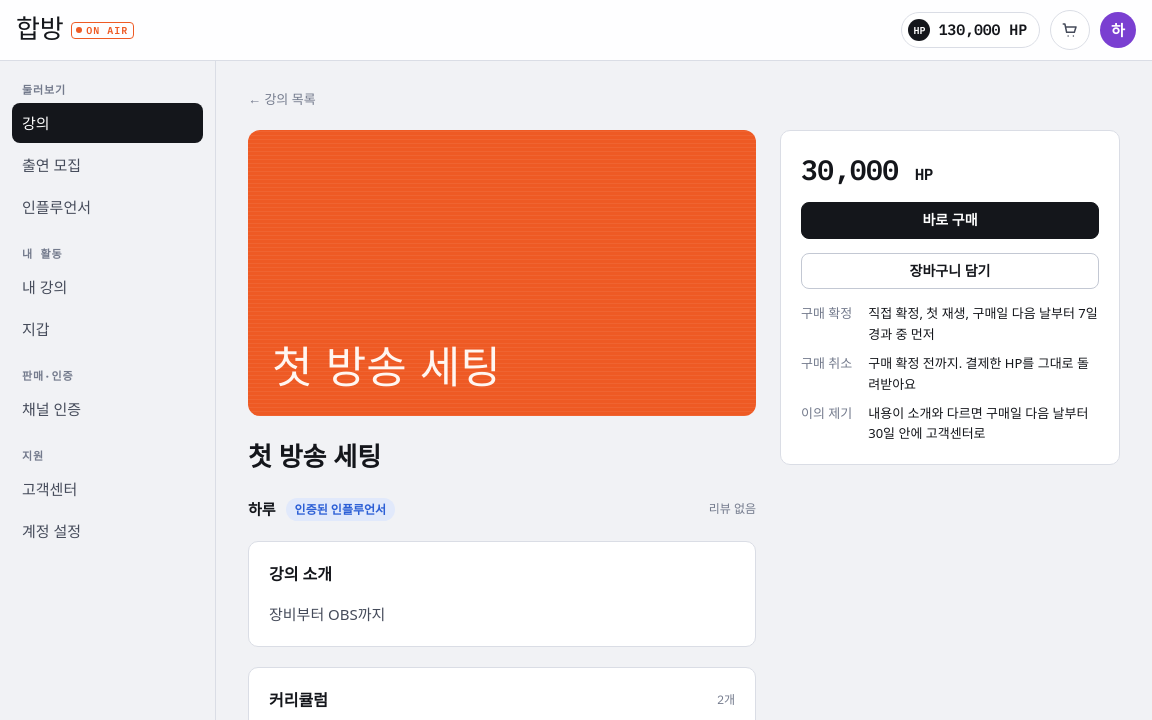
바로 구매 › 주문 확인에서 결제하면 주문 완료 화면으로 간다
Click the button "바로 구매". click: (950, 220)
box: [801,202,1099,239]
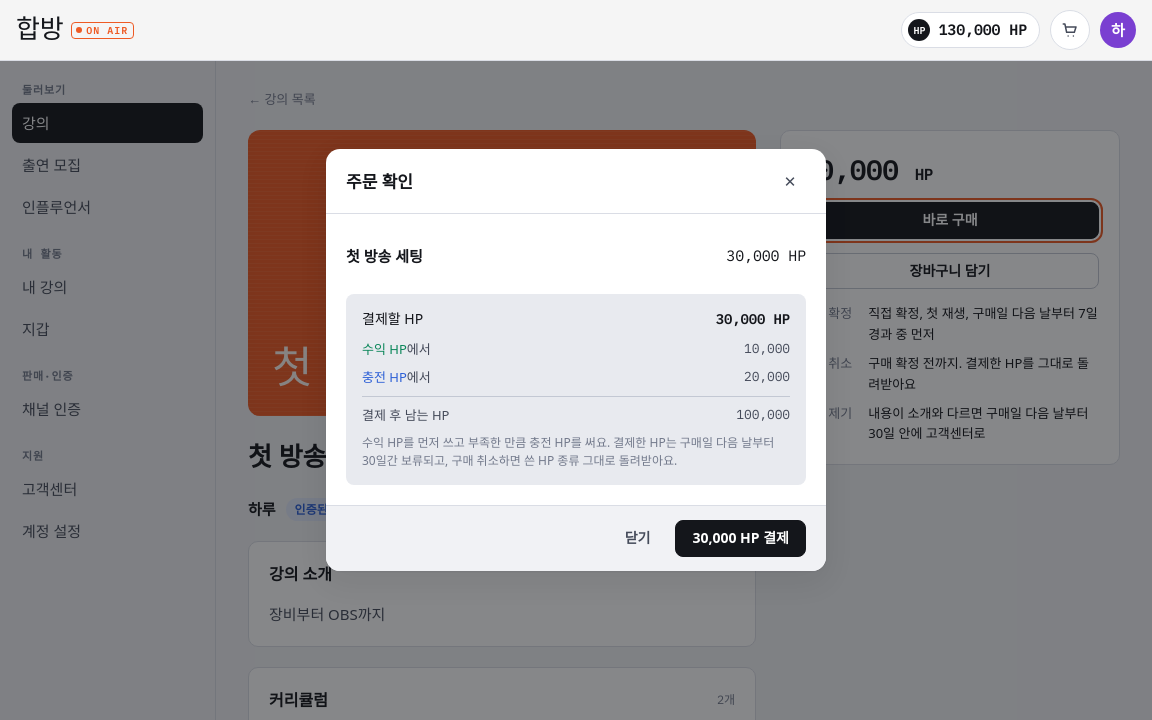
Expected: the text "10,000" is shown, [744,338,790,359]
Expected: the text "20,000" is shown, [744,367,790,388]
Click the button "30,000 HP 결제". click: (741, 538)
box: [675,520,806,557]
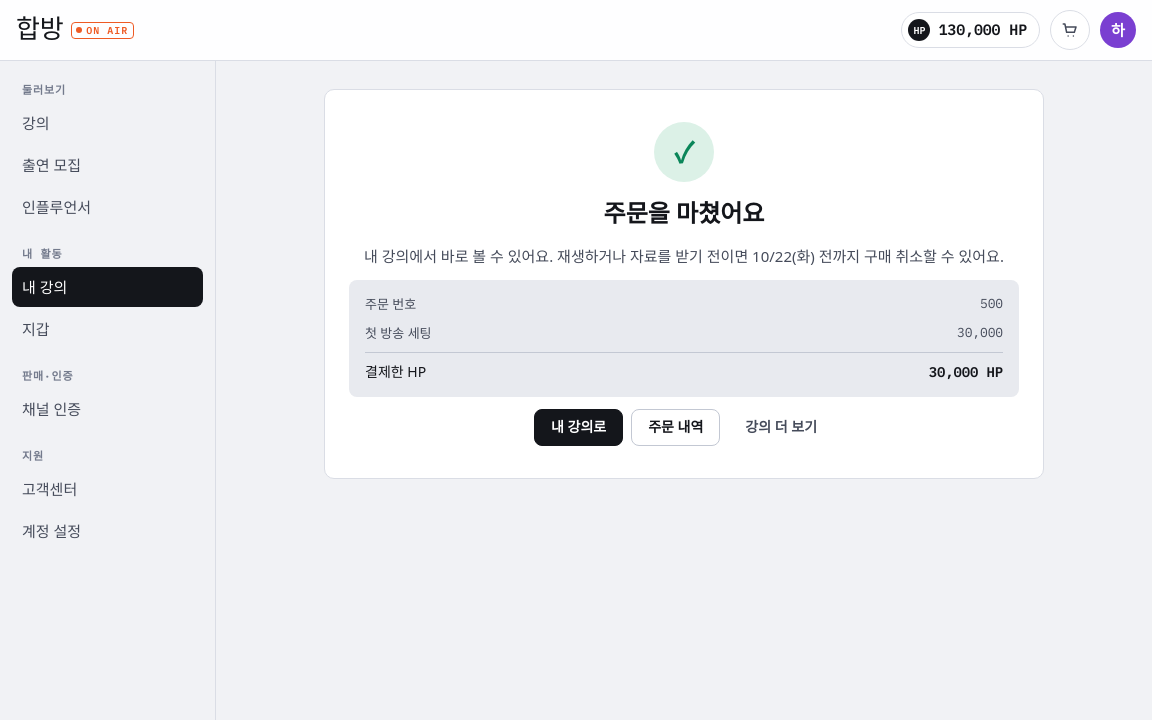
Expected: the heading "주문을 마쳤어요" is shown, [604,194,764,232]
